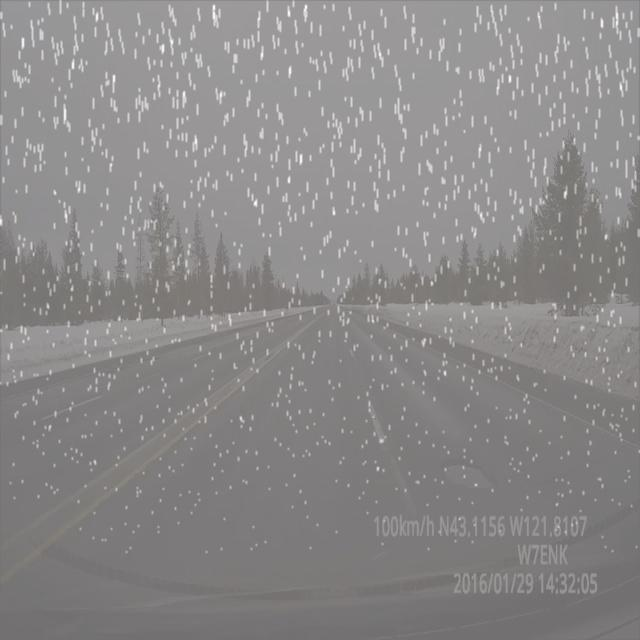Pothole: (440, 455, 494, 498)
